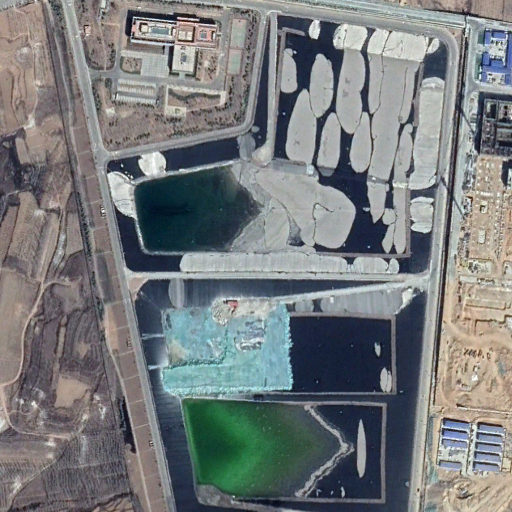lf: (82, 12, 451, 512)
